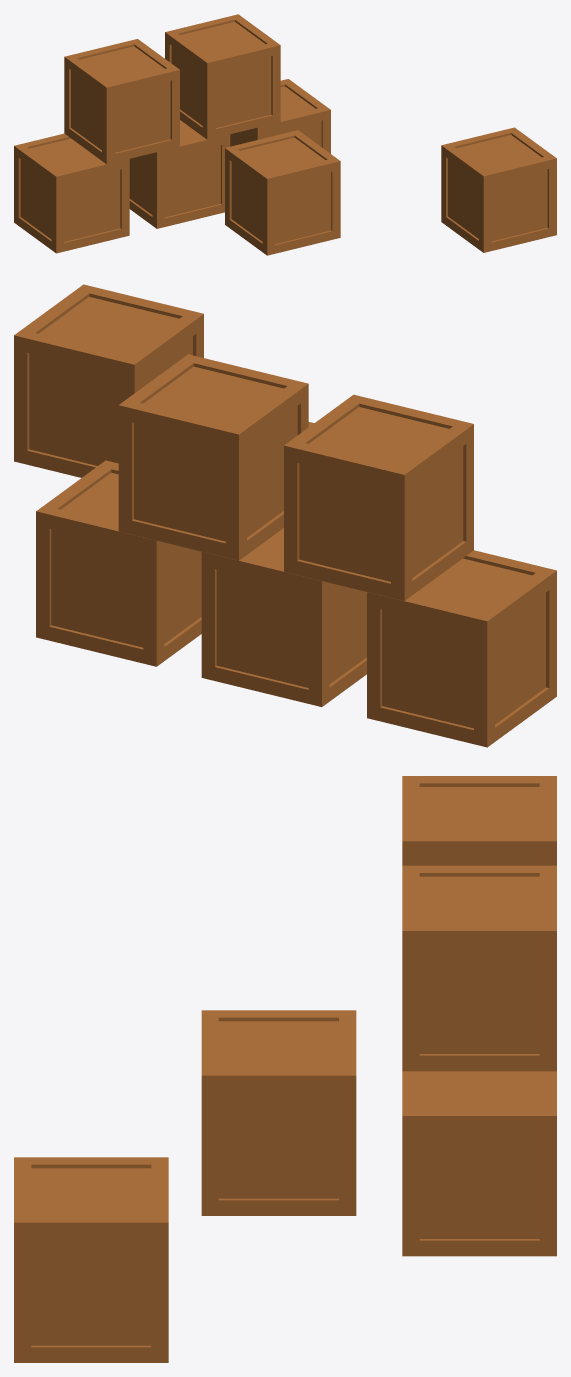
File: 08 Boxs.FBX
3 views of the same model, one above another, from view 1: azimuth 30°, elevation 25°; view 2: azimuth 150°, elevation 25°; view 3: azimuth 270°, elevation 25° (orthographic). The views are drawn at different scales.
Visible parts, largest first — view 1: Box138, Box135, Box136, Box137, Box132, Box133, Box134; view 2: Box138, Box137, Box132, Box136, Box134, Box133; view 3: Box135, Box137, Box136, Box134, Box138.
Boxes of the visible parts, x1=… form: Box138: x1=64, y1=39, x2=179, y2=164; Box135: x1=225, y1=130, x2=340, y2=255; Box136: x1=441, y1=127, x2=556, y2=252; Box137: x1=165, y1=14, x2=280, y2=139; Box132: x1=14, y1=133, x2=129, y2=253; Box133: x1=129, y1=120, x2=230, y2=228; Box134: x1=230, y1=79, x2=330, y2=153; Box138: x1=284, y1=394, x2=473, y2=600; Box137: x1=118, y1=354, x2=308, y2=560; Box132: x1=367, y1=550, x2=556, y2=747; Box136: x1=14, y1=284, x2=203, y2=477; Box134: x1=36, y1=460, x2=201, y2=666; Box133: x1=201, y1=528, x2=366, y2=706; Box135: x1=201, y1=1010, x2=356, y2=1215; Box137: x1=402, y1=865, x2=556, y2=1071; Box136: x1=14, y1=1157, x2=168, y2=1362; Box134: x1=402, y1=1071, x2=556, y2=1256; Box138: x1=402, y1=776, x2=556, y2=865.
Size of the model in its own units: 1344 by 500 by 878.
